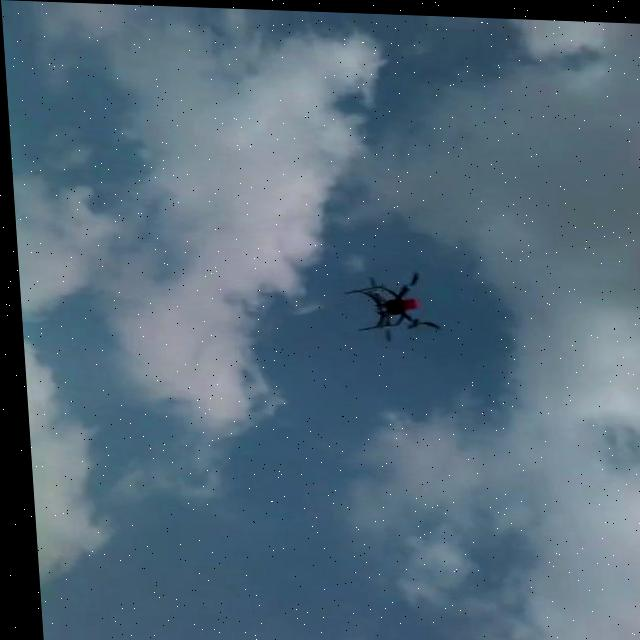drone: (340, 267, 440, 339)
